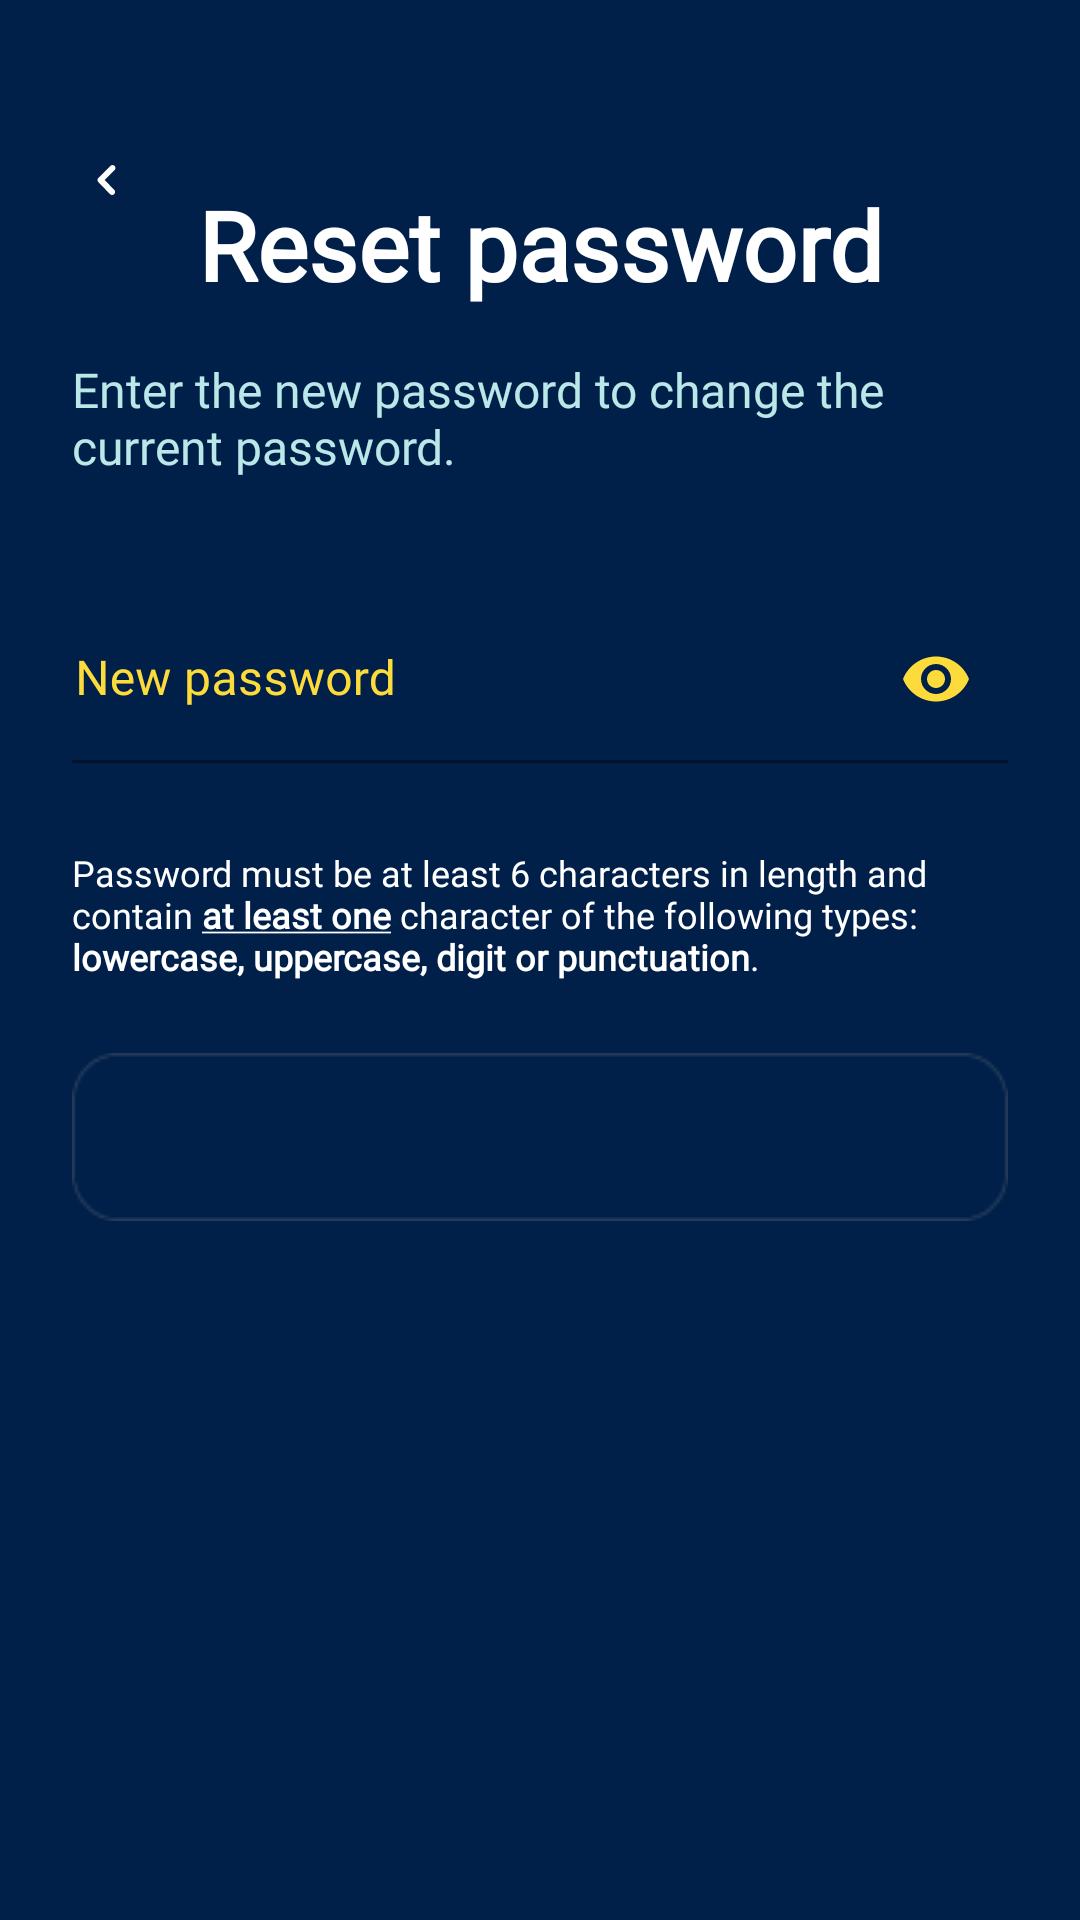

Screen size 1080w x 1920h. Icon name, then its center in pixels as point (x, y):
arrow return page: point (106, 180)
